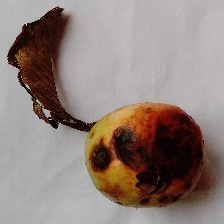guava: (40, 8, 198, 199)
